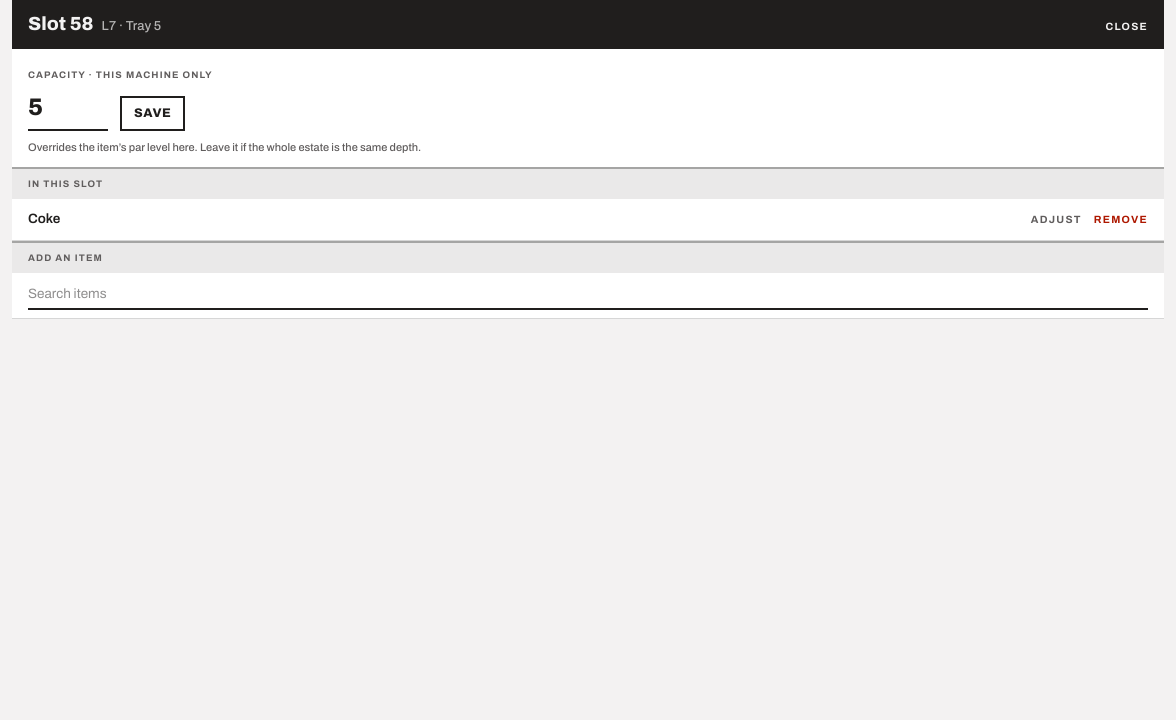
SlotEditSheet › offers transfer at a slot once the machine is finished
Click the button with aria-label "Adjust Coke" at (1056, 219), box [1031,212,1082,227]
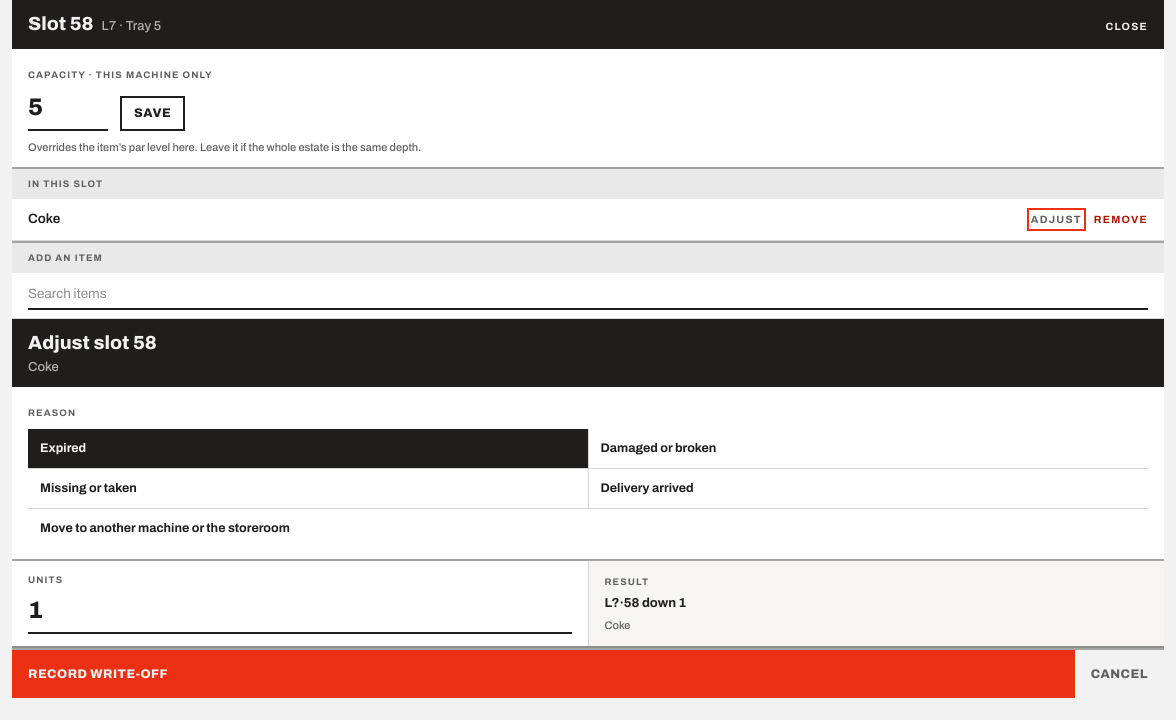
Expected: the number field labelled "Units" is shown, [28,592,572,634]
Expected: the button "Move to another machine or the storeroom" is shown, [28,508,1148,547]
